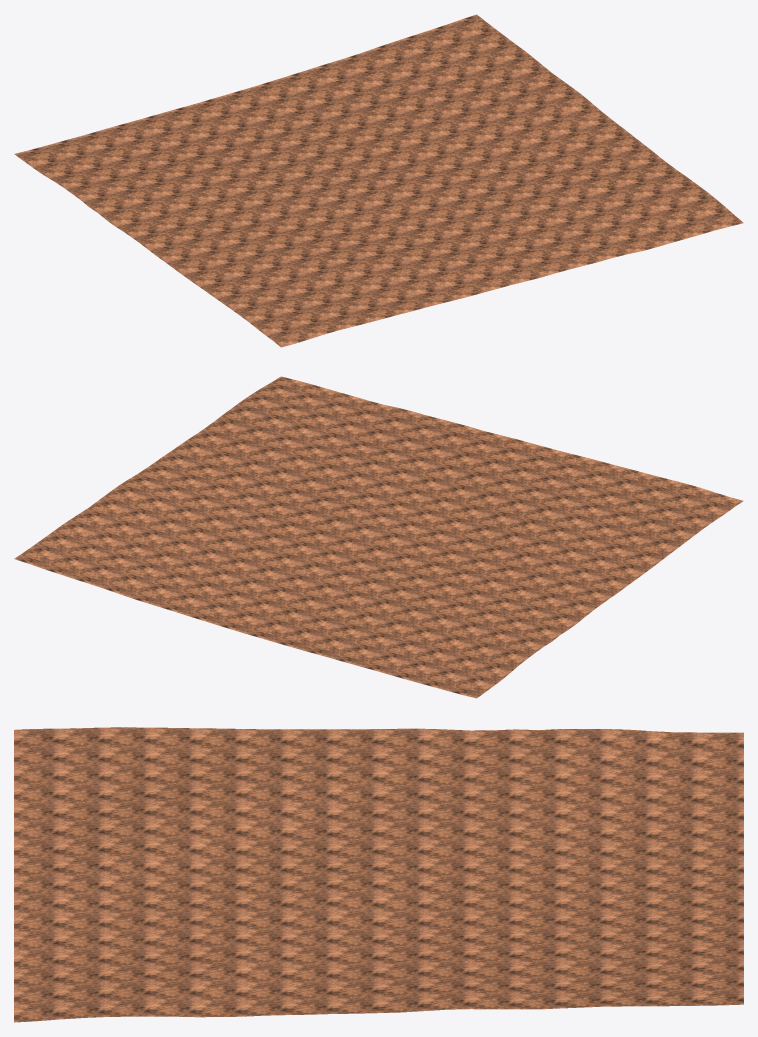
File: terrain_02_09.dae
The picture shows the model from 3 angles, top to bottom: view 1: azimuth 30°, elevation 25°; view 2: azimuth 150°, elevation 25°; view 3: azimuth 270°, elevation 25°; orthographic projection. The views are drawn at different scales.
Parts seen in each view (by area): view 1: terrain_02_09-node; view 2: terrain_02_09-node; view 3: terrain_02_09-node.
Part boxes in pixels (x1,y1,x2,y2): terrain_02_09-node: [14, 14, 743, 347]; terrain_02_09-node: [14, 376, 743, 698]; terrain_02_09-node: [14, 727, 743, 1022].
Bounding box in the file's own units: 128 × 128 × 7.05.
1 material, 1 textured.
